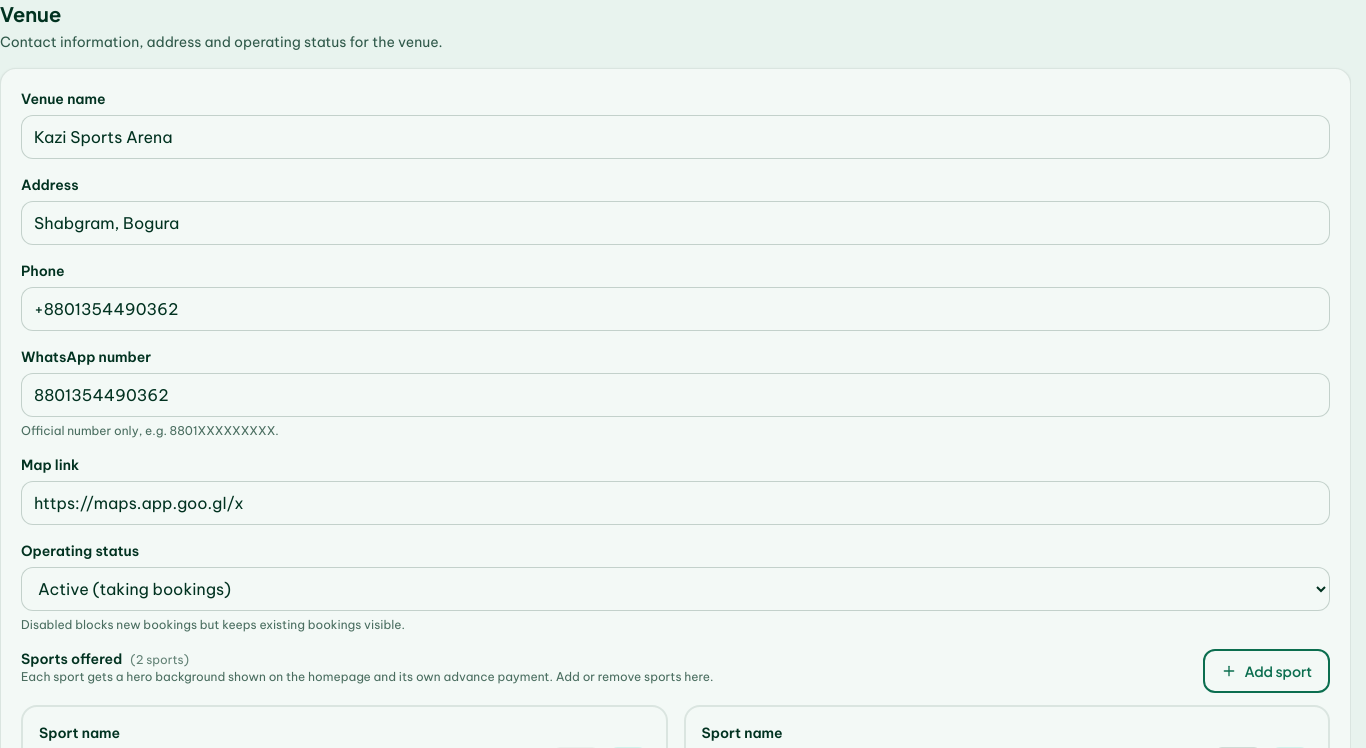
Test case: Venue tab: sport-wise advance › a new sport starts from the venue-wide default
Click the button "Add sport" at point(1266, 671), box [1203,649,1330,693]
(page scrolled)
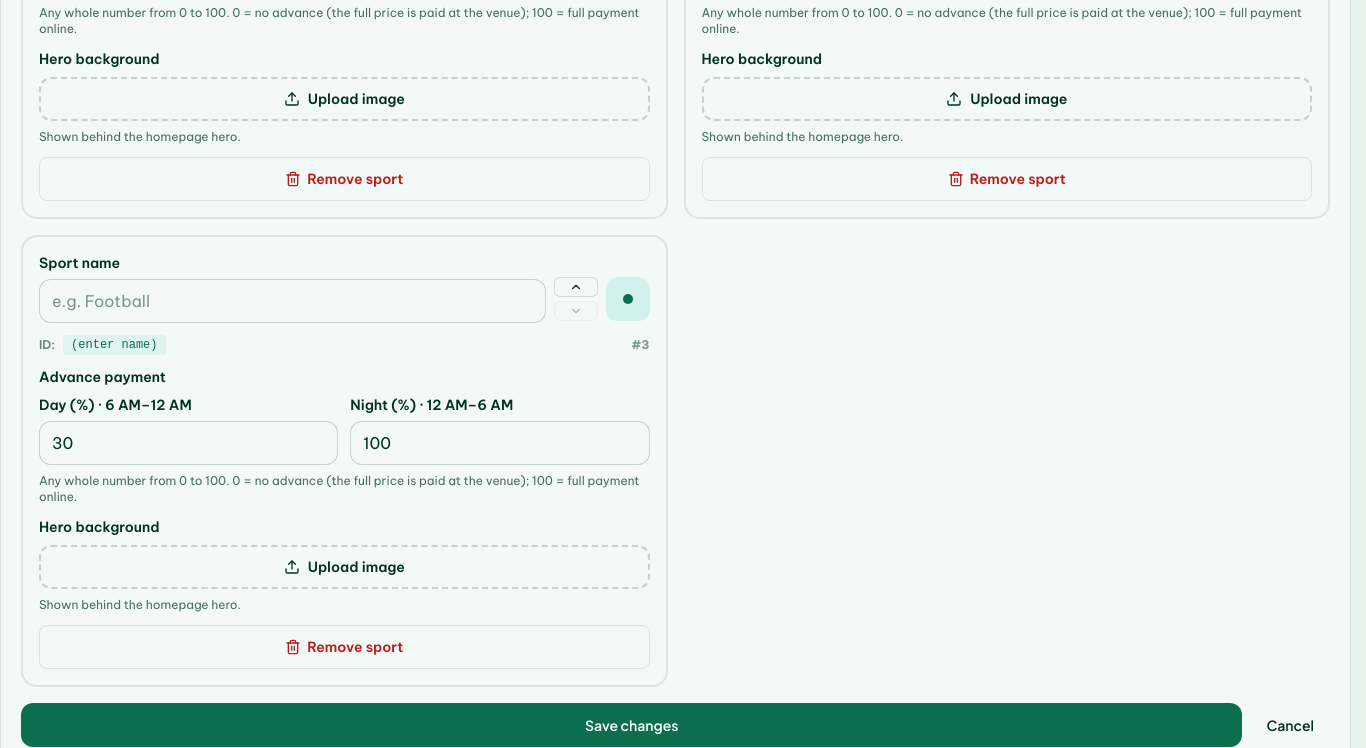
Now the number field labelled "Day (%) · 6 AM–12 AM" holds "30", box [39,421,338,465]
Now the number field labelled "Night (%) · 12 AM–6 AM" holds "100", box [350,421,650,465]
